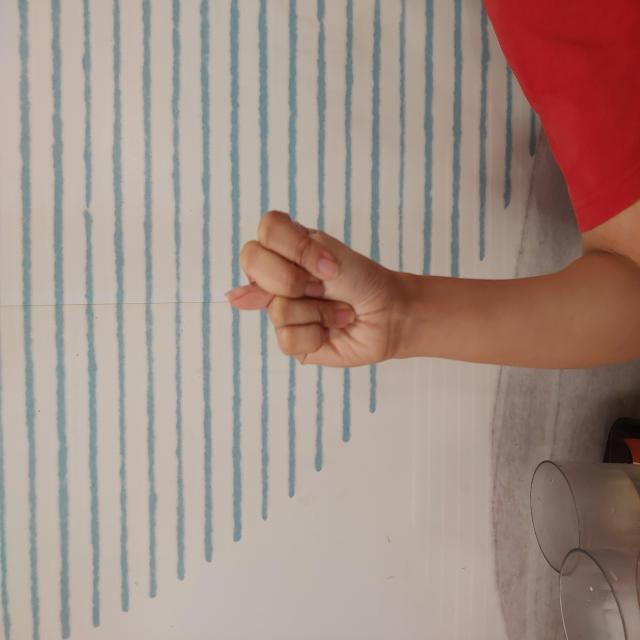N: (270, 223, 432, 403)
